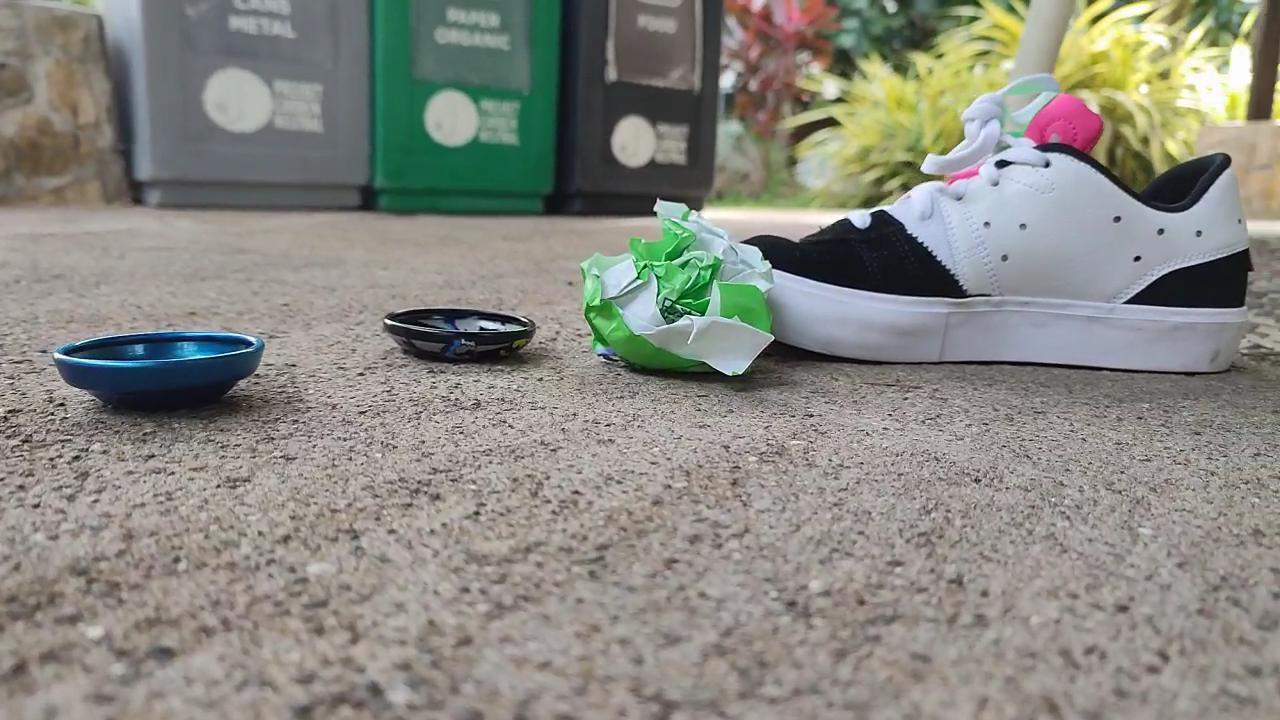Paper: (564, 180, 782, 395)
